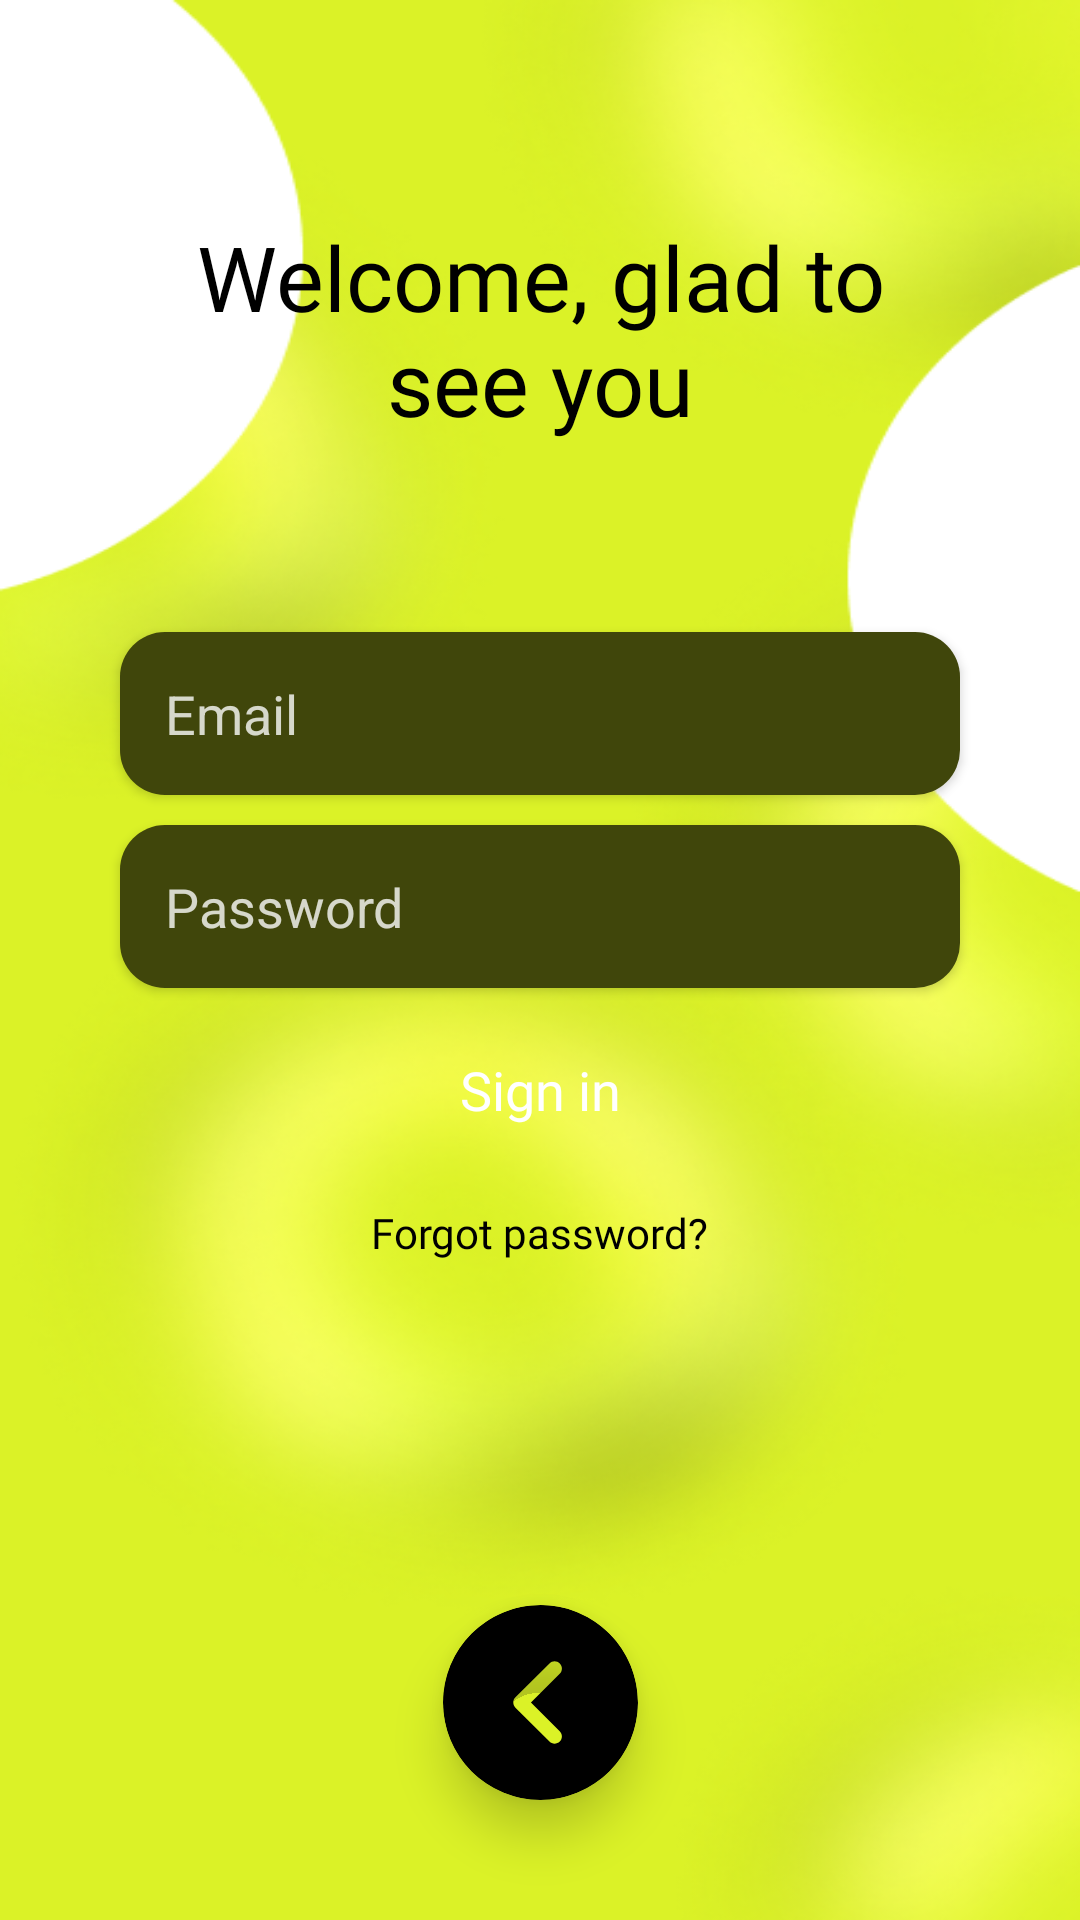

Icons on this 1080x1920 Android screen, each with the point to tap as point (x, y):
gobackblack: point (540, 1702)
